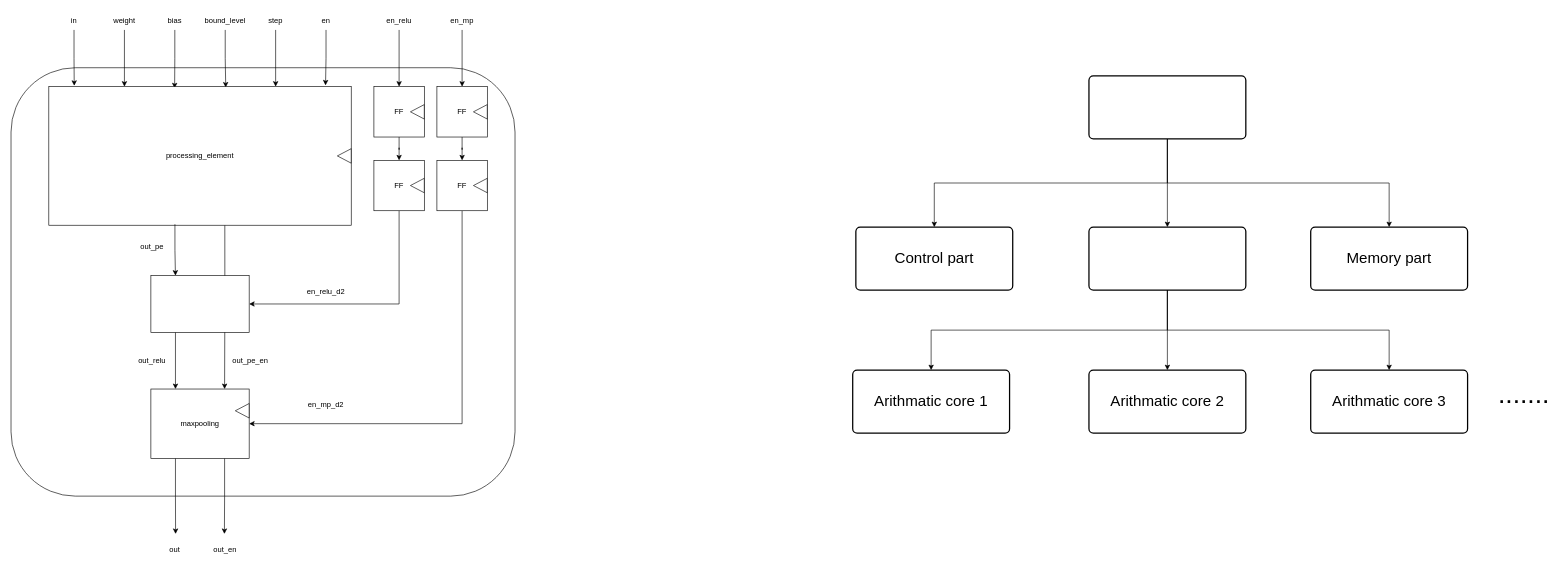
This 1566x570 diagram has some shape labels left out. Each missing label, with the centre of its shape:
"Arithmatic part" belongs at point 1167,258.
"NPU" belongs at point 1167,107.
"relu" belongs at point 199,303.
